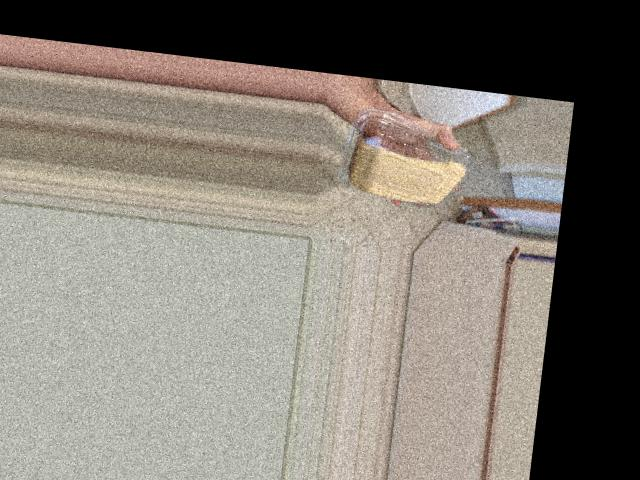cheese: (331, 129, 444, 194)
